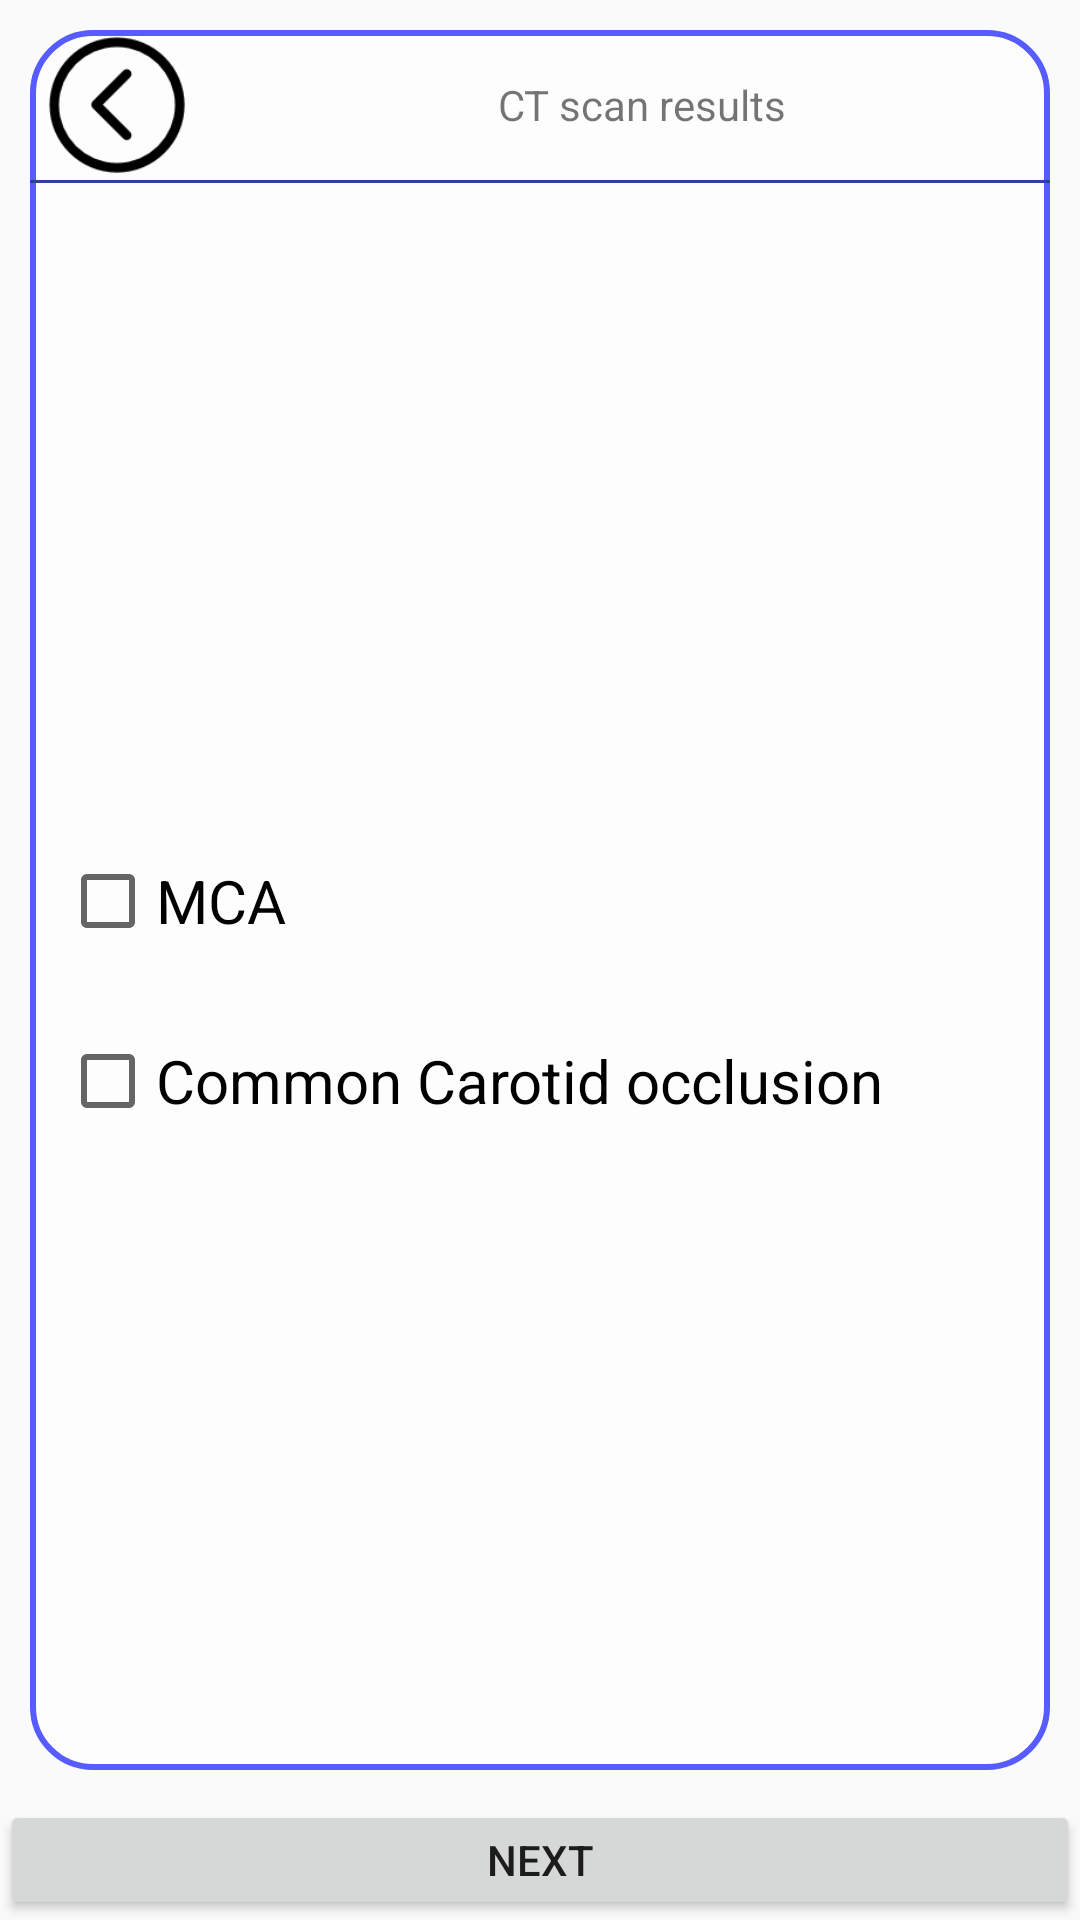

Named icons in this screenshot (1080 x 1920) and their centers, (x=x, y=y):
prev: (x=117, y=105)
